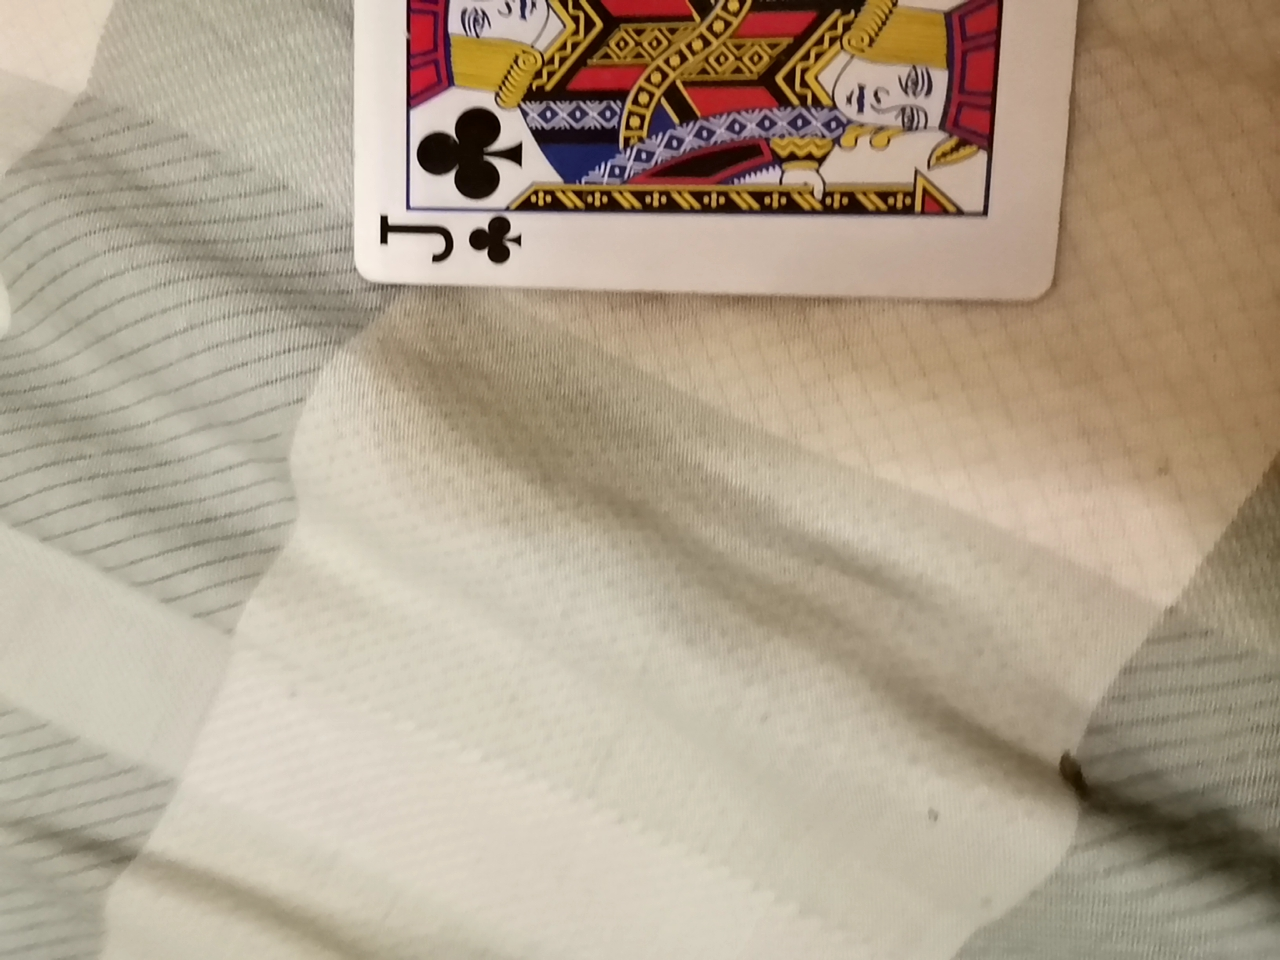mh j: (326, 0, 1071, 306)
